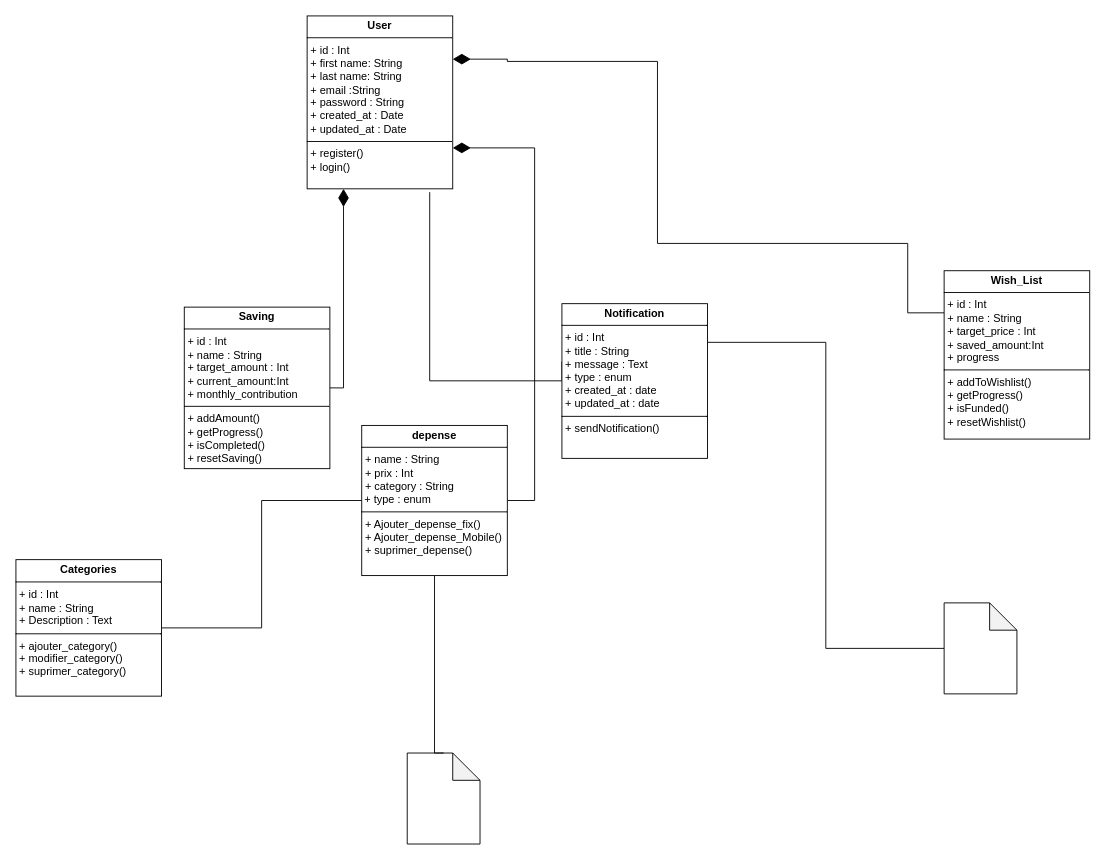
The diagram is 1106 pixels wide and 860 high, and some of its shapes have lost their labels. The centre of each missing label's shape, as x and y in pixels:
"budget_alert saving_goal" goes at [980,648].
"récurrentes , ponctuelle" goes at [443,798].
